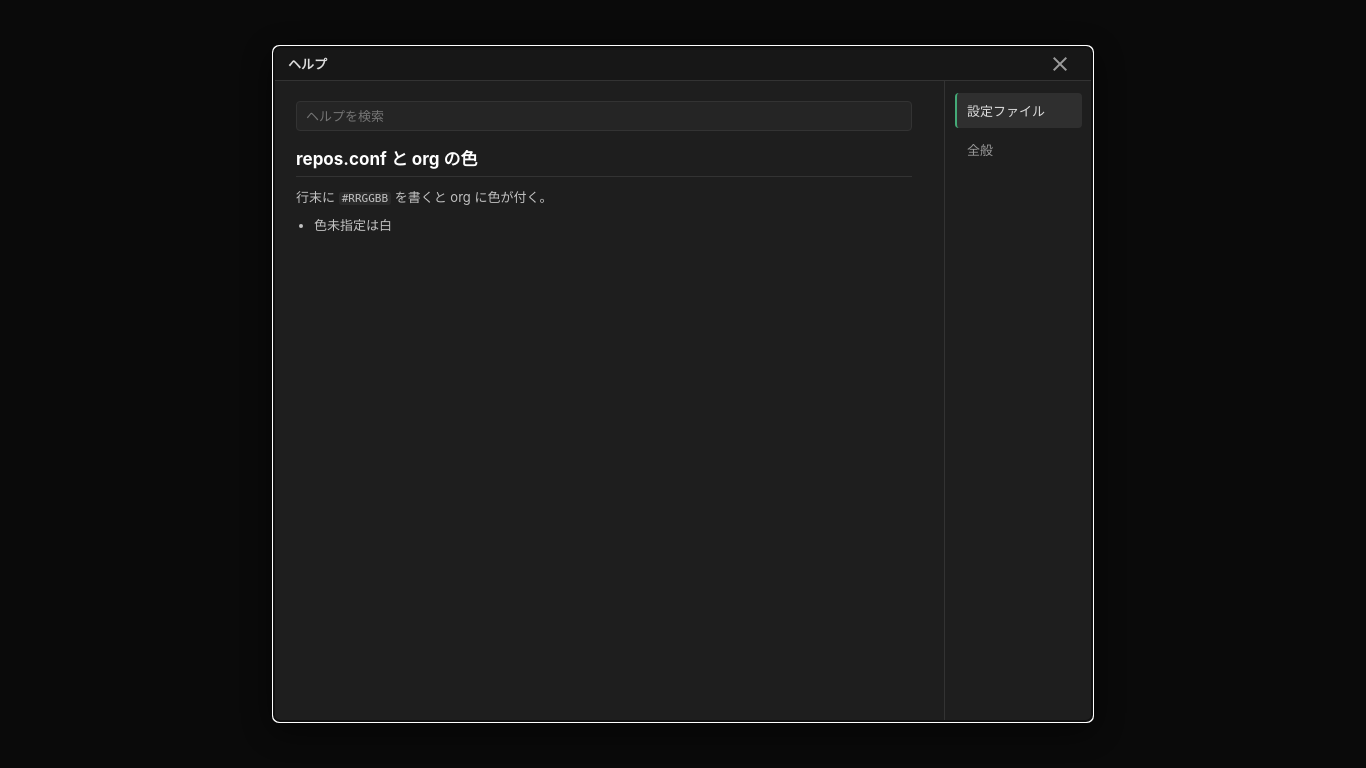
Test case: HelpModal › switches the body when another tab is selected
Click the tab "全般". click: x=1018, y=150
box: [955, 132, 1082, 167]
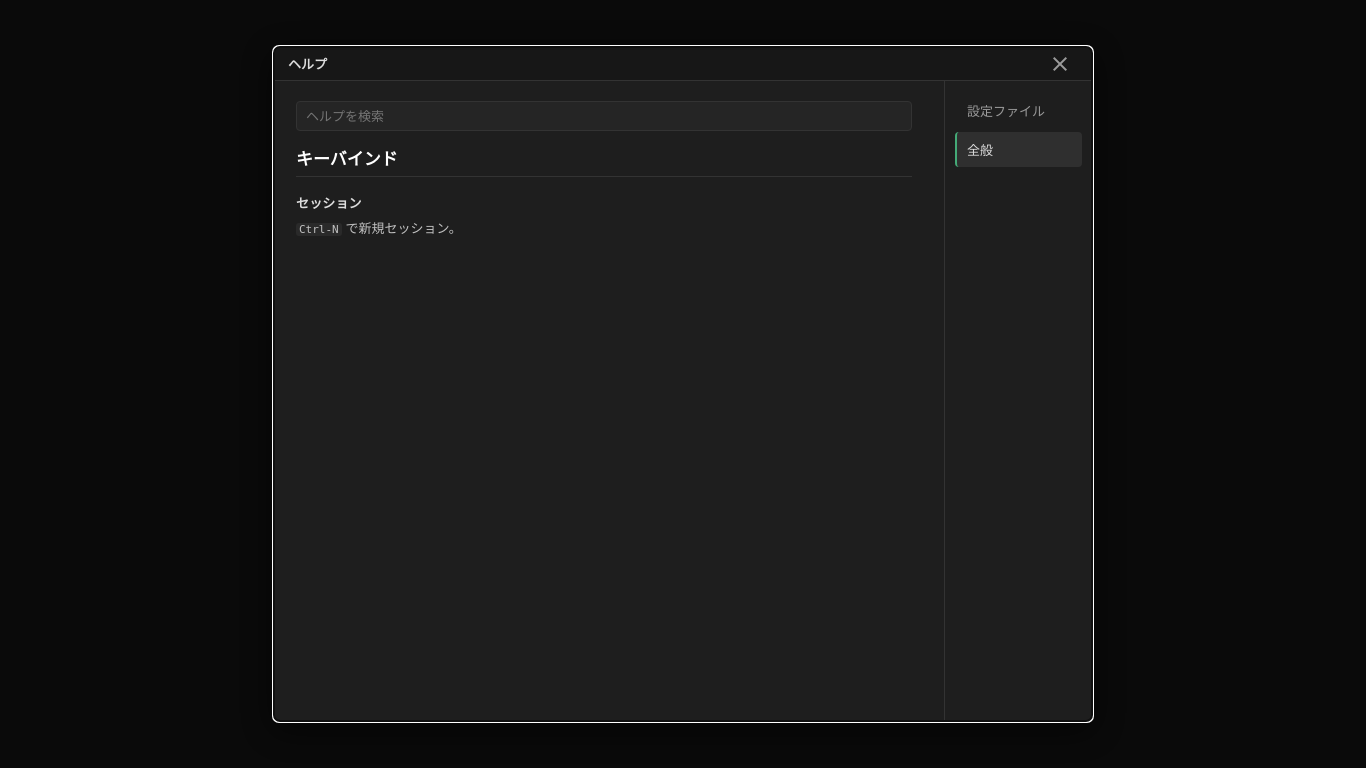
Expected: the heading "キーバインド" is shown, [296, 145, 912, 177]
Expected: the text "で新規セッション。" is shown, [342, 220, 462, 236]
Expected: the heading "repos.conf と org の色" is gone
